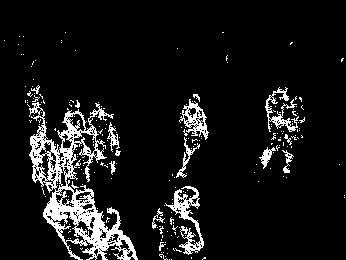person: (150, 186, 206, 260), (42, 182, 89, 260), (172, 92, 209, 178), (27, 116, 62, 187), (275, 96, 306, 174), (94, 207, 138, 260), (87, 100, 118, 175), (259, 85, 283, 168)
